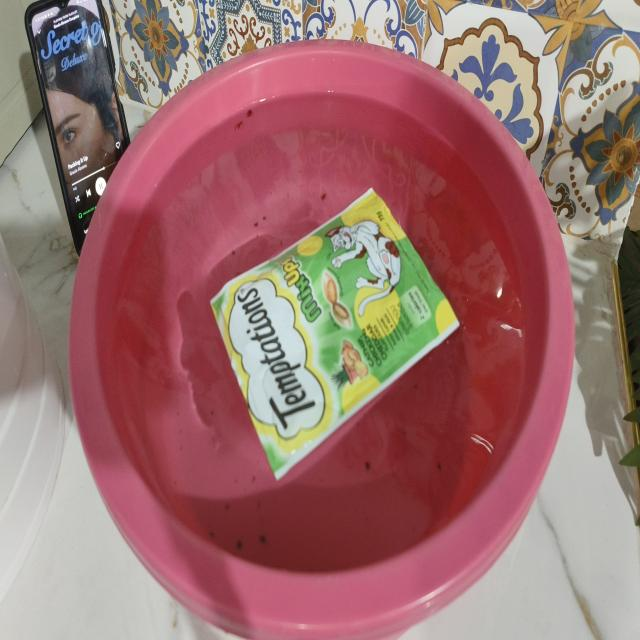Plastic Pouch: (211, 188, 460, 480)
